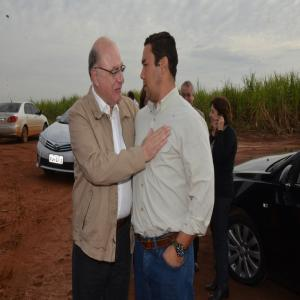Vehicle-registration-plate: (50, 155, 65, 164)
